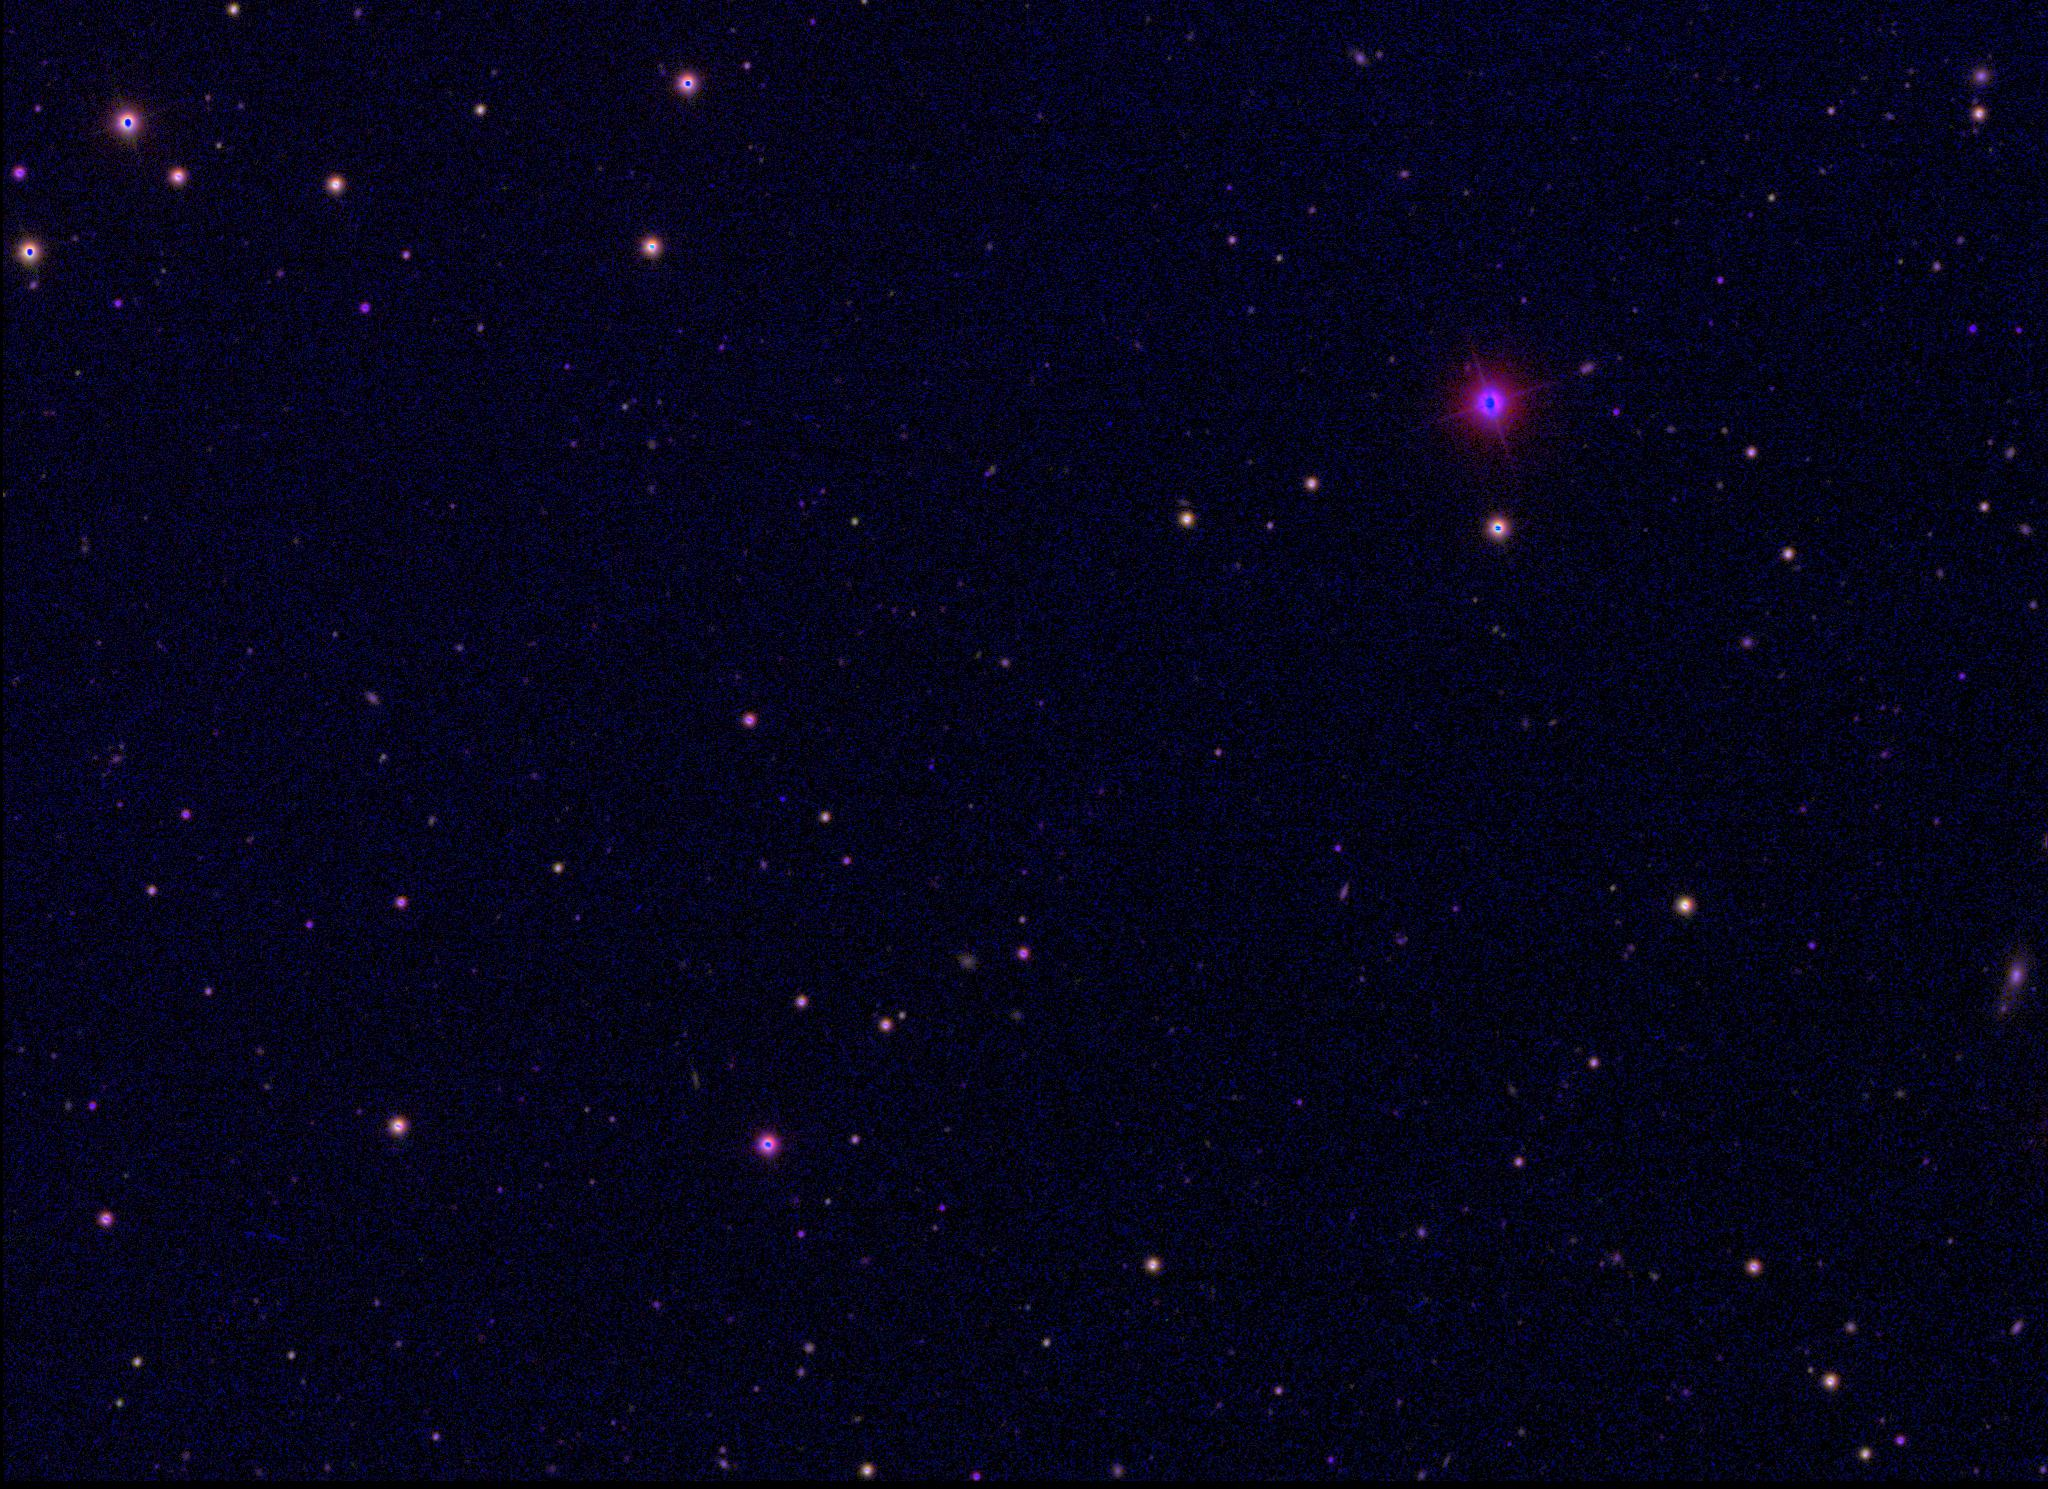L: (776, 792, 790, 807)
